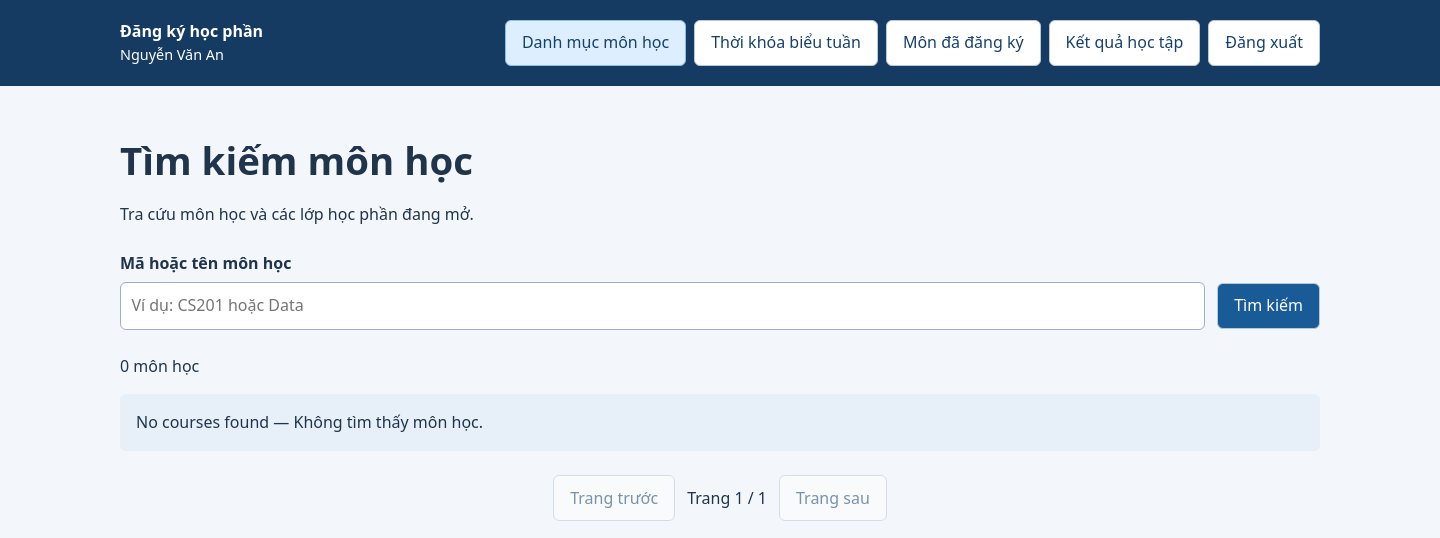
Test case: Điều hướng các trang của sinh viên › mở trang môn đã đăng ký và kết quả học tập từ thanh điều hướng
The image size is (1440, 538).
Click the button "Môn đã đăng ký". click: click(963, 43)
box: [886, 20, 1041, 66]
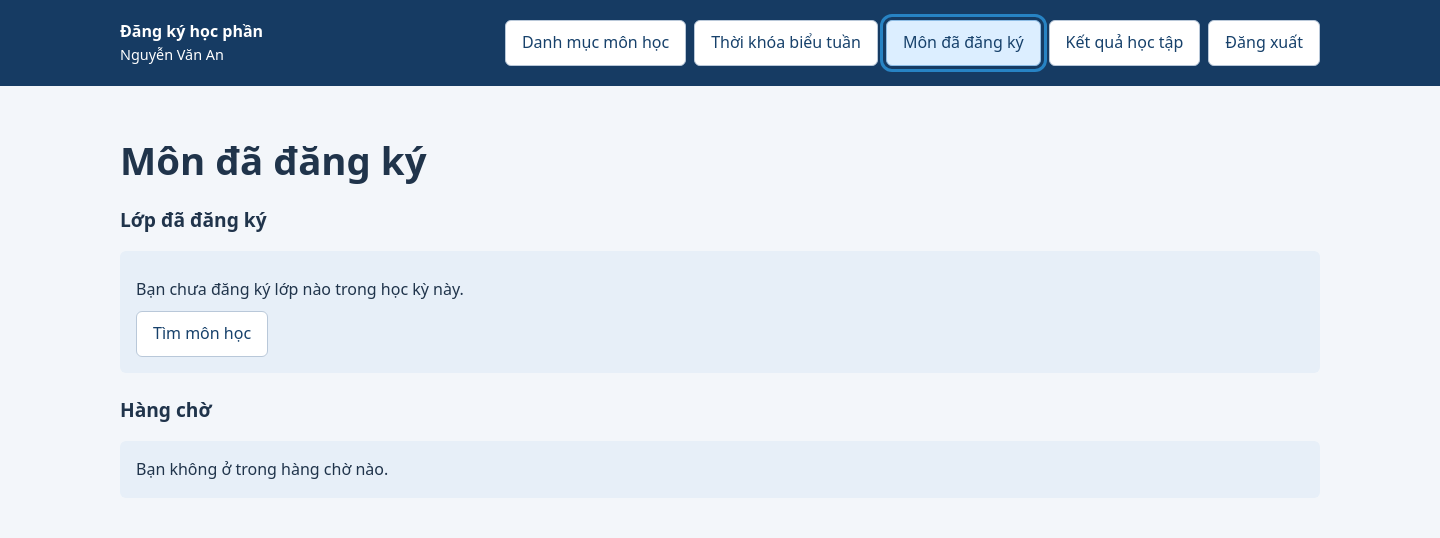
Check: the heading "Môn đã đăng ký" is shown, box [120, 134, 426, 186]
Click the button "Kết quả học tập". click: click(1124, 43)
box: [1049, 20, 1200, 66]
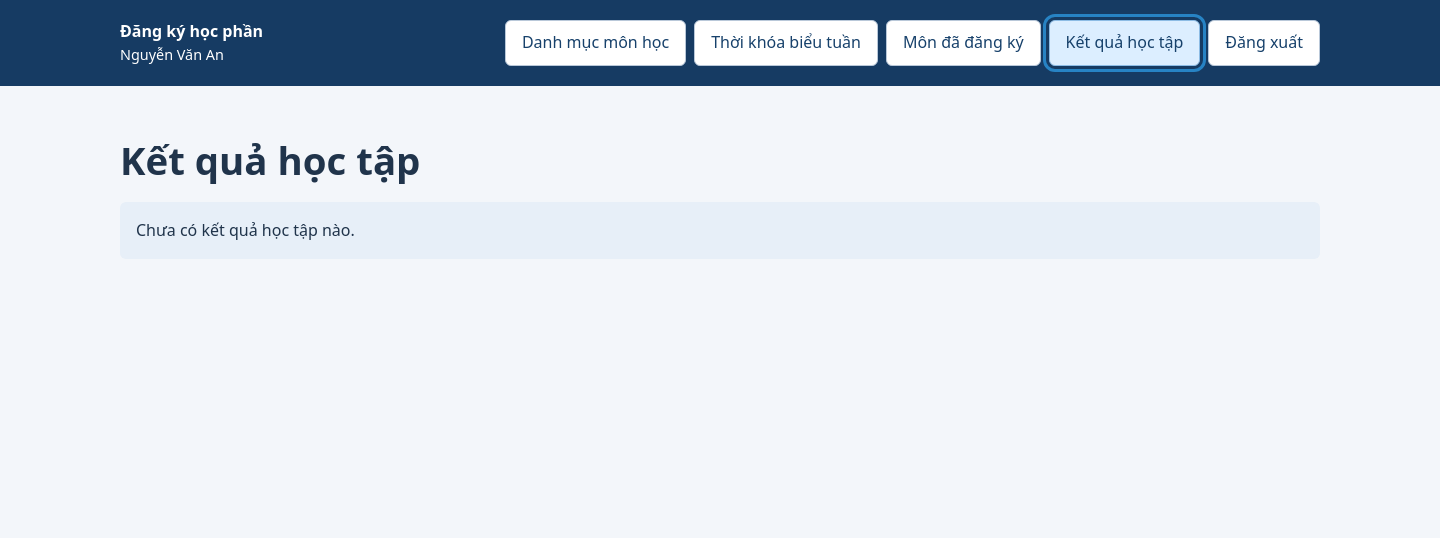
Check: the heading "Kết quả học tập" is shown, box [120, 134, 420, 186]
Click the button "Danh mục môn học". click: click(596, 43)
box: [505, 20, 686, 66]
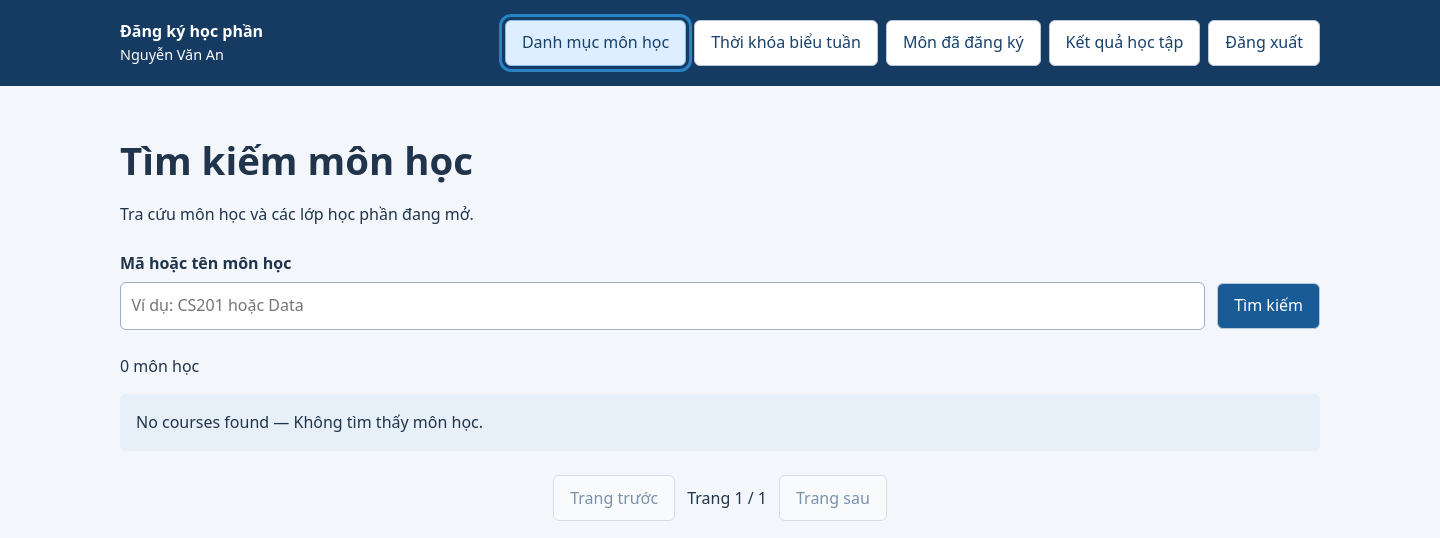
Check: the heading "Tìm kiếm môn học" is shown, box [120, 134, 473, 186]
